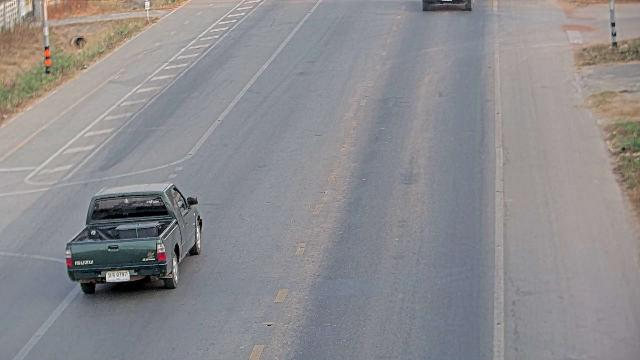pickup-truck: (64, 181, 203, 294)
